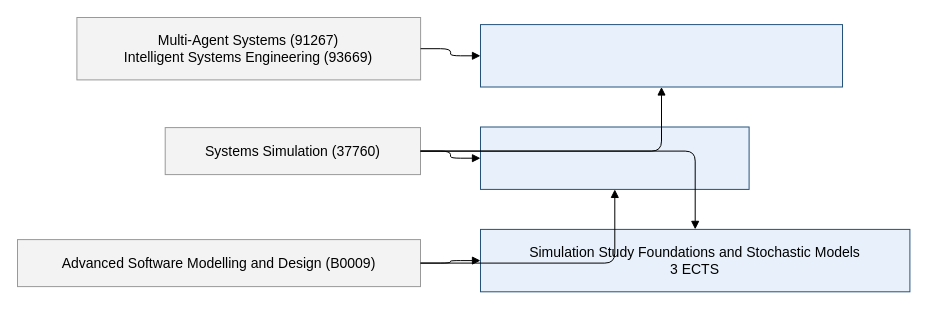
This 928x310 diagram has some shape labels left out. The centre of each missing label's shape, as x and y in pixels:
"Advanced Simulation Analysis 2 ECTS" goes at (614,157).
"Complex Systems and Simulation Execution 2 ECTS" goes at (661,55).
